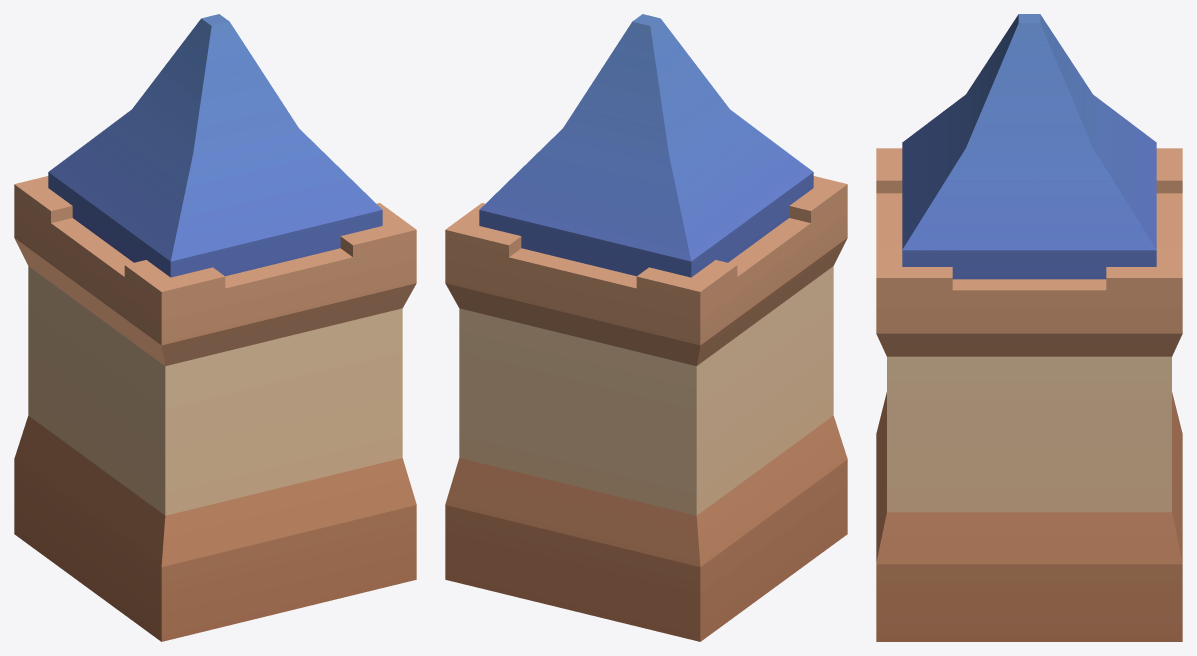
Rendered from tower-square-roof.glb.
3 renders of one model, left to right at view 1: azimuth 30°, elevation 25°; view 2: azimuth 150°, elevation 25°; view 3: azimuth 270°, elevation 25°, orthographic. The views are drawn at different scales.
Visible parts, largest first — view 1: tower-square-roof; view 2: tower-square-roof; view 3: tower-square-roof.
Part boxes in pixels (x1,y1,x2,y2): tower-square-roof: (14,14,416,641); tower-square-roof: (445,14,847,641); tower-square-roof: (876,14,1182,641).
Bounding box in the file's own units: 0.9999 × 2.01 × 0.9999.
1 material, 1 textured.
